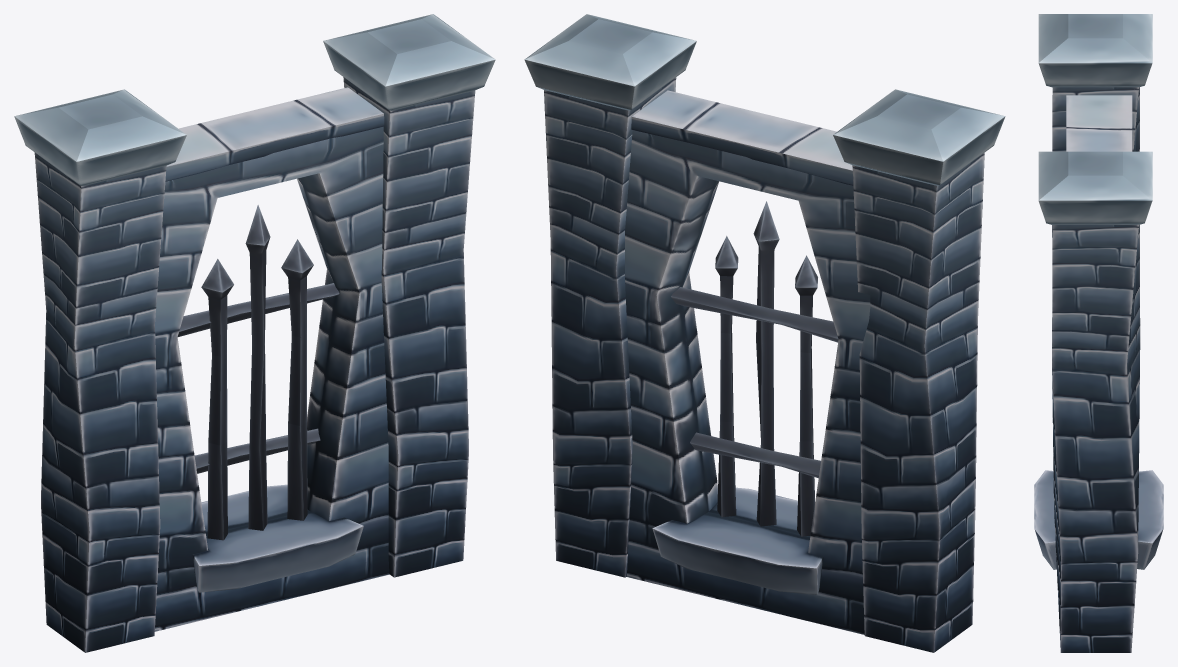
The model's file is Vampire_Village_Props_26.FBX.
The picture shows the model from 3 angles, left to right: view 1: azimuth 30°, elevation 25°; view 2: azimuth 150°, elevation 25°; view 3: azimuth 270°, elevation 25°; orthographic projection. The views are drawn at different scales.
Parts seen in each view (by area): view 1: Vampire_Village_Props_26; view 2: Vampire_Village_Props_26; view 3: Vampire_Village_Props_26.
Boxes of the visible parts, x1,y1,x2,y2 form: Vampire_Village_Props_26: (14, 14, 495, 652); Vampire_Village_Props_26: (524, 14, 1005, 652); Vampire_Village_Props_26: (1034, 14, 1163, 652).
Bounding box in the file's own units: 342 × 404 × 99.75.
